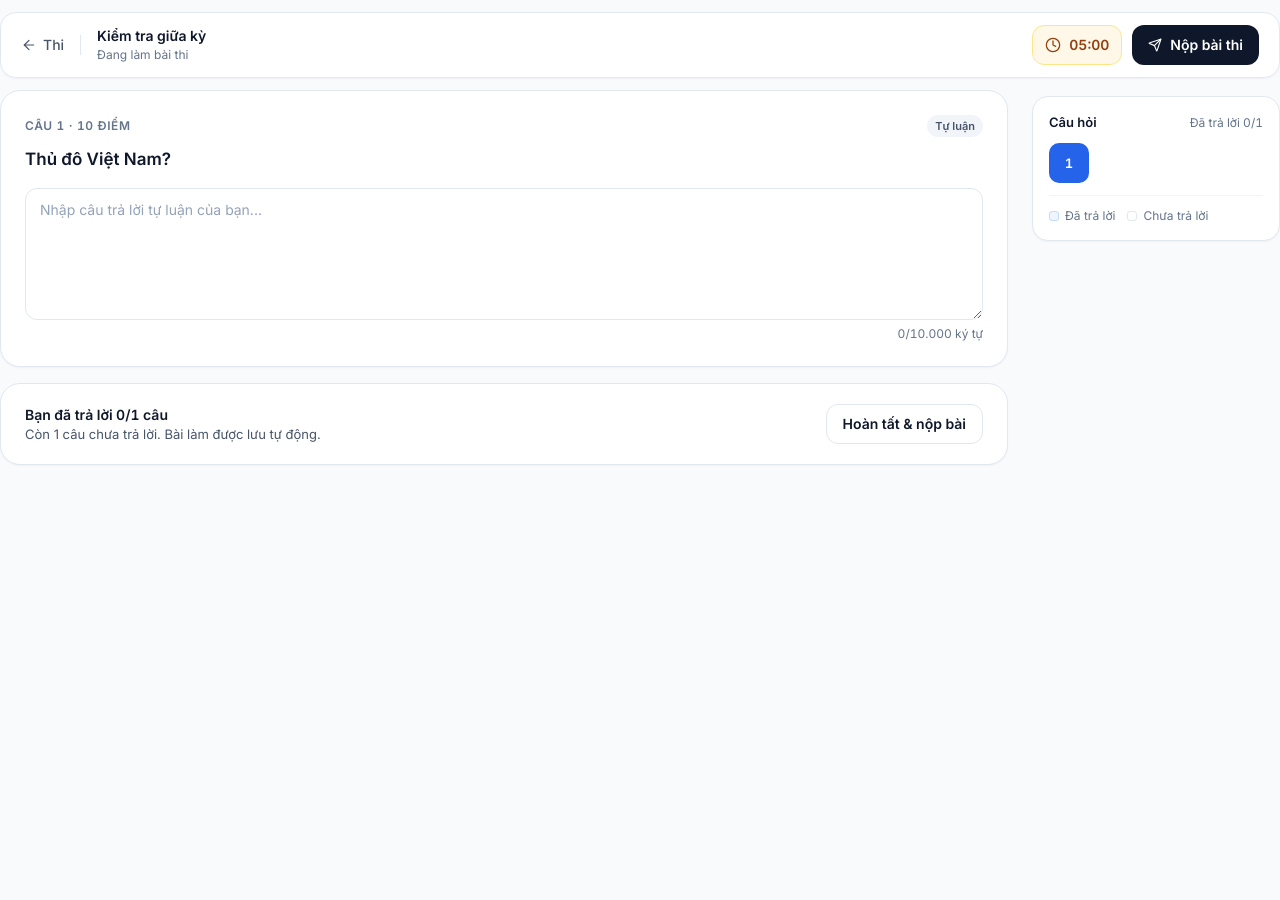
Test: ExamAttemptPage — resume-only mount and post-submit navigation (R8-02) › navigates to the result route after a successful submit, so a reload never re-creates an attempt
This screenshot has width=1280, height=900.
Expected: the text "Nộp bài thi" is shown, [1170, 35, 1243, 55]
Click the button "Nộp bài thi".
click(1196, 45)  # box [1132, 25, 1259, 65]
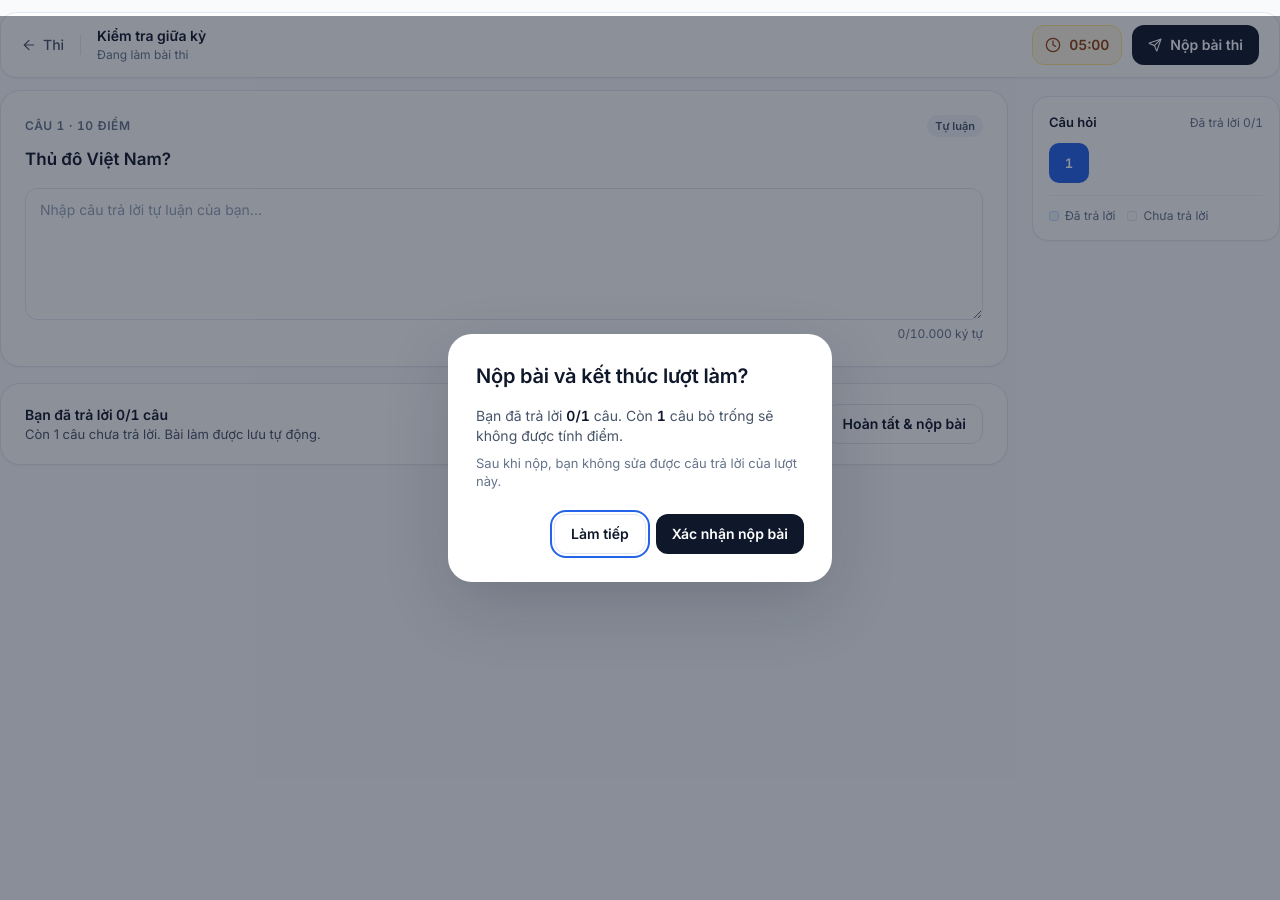
Click the button "Xác nhận nộp bài".
click(730, 534)  # box [656, 514, 804, 554]
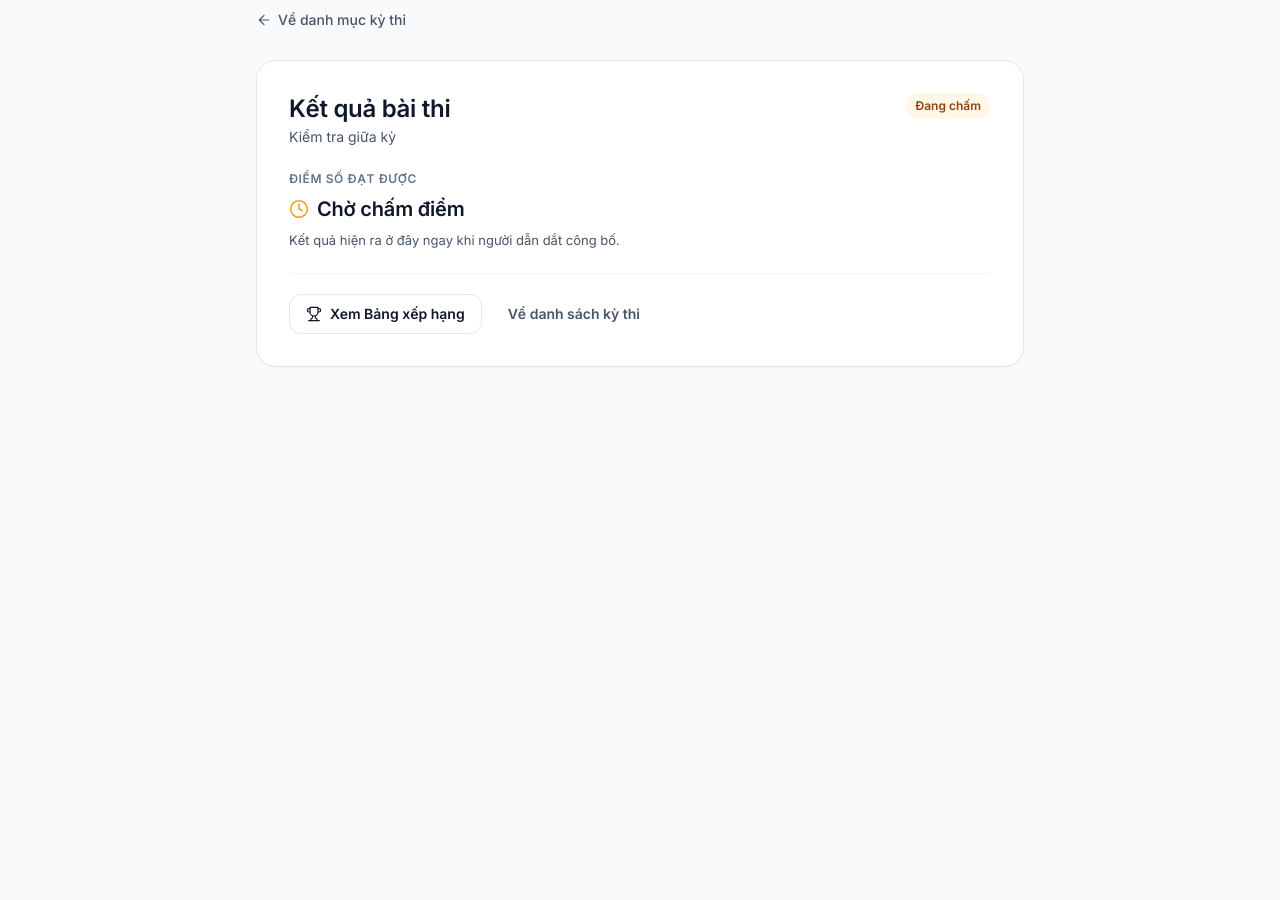
Expected: the heading "Kết quả bài thi" is shown, [289, 93, 450, 125]
